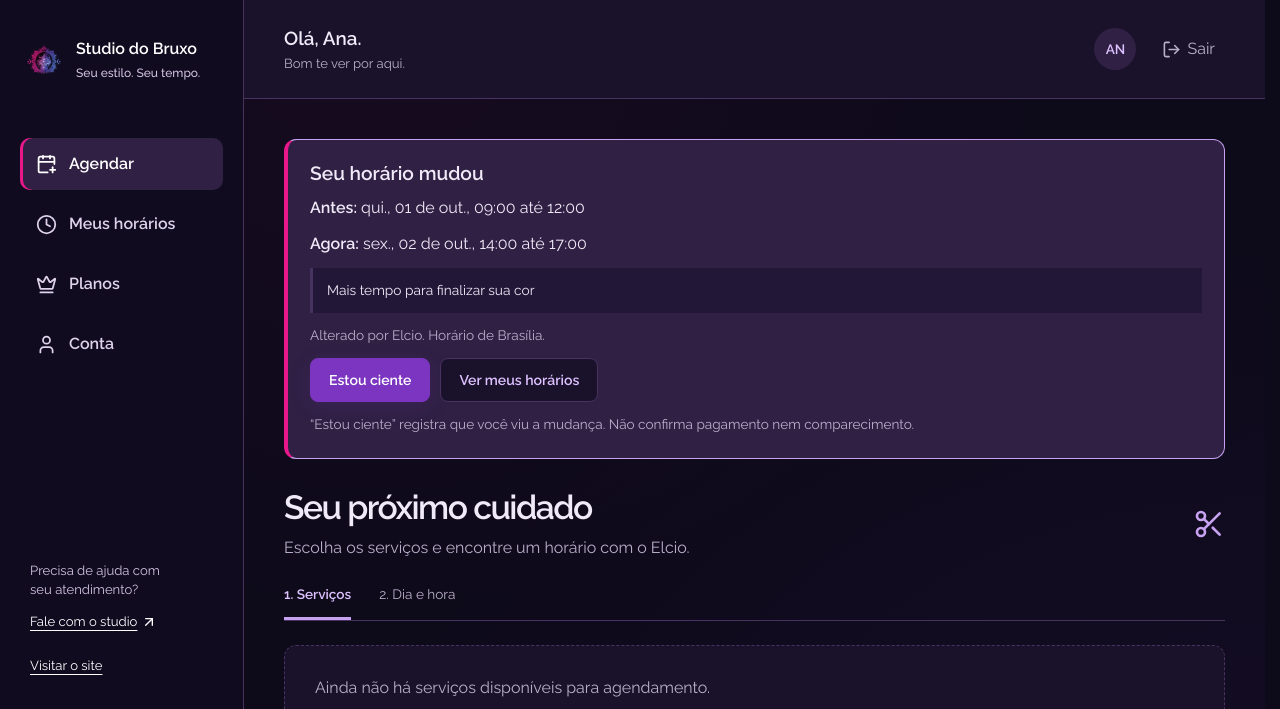
Test: client sees old and new times with reason then explicitly acknowledges the persisted change
Expected: the text "Antes:" is shown, [310,198,357,217]
Expected: the text "Agora:" is shown, [310,234,359,253]
Click the button "Estou ciente" at {"x": 370, "y": 380}, box [310,358,430,402]
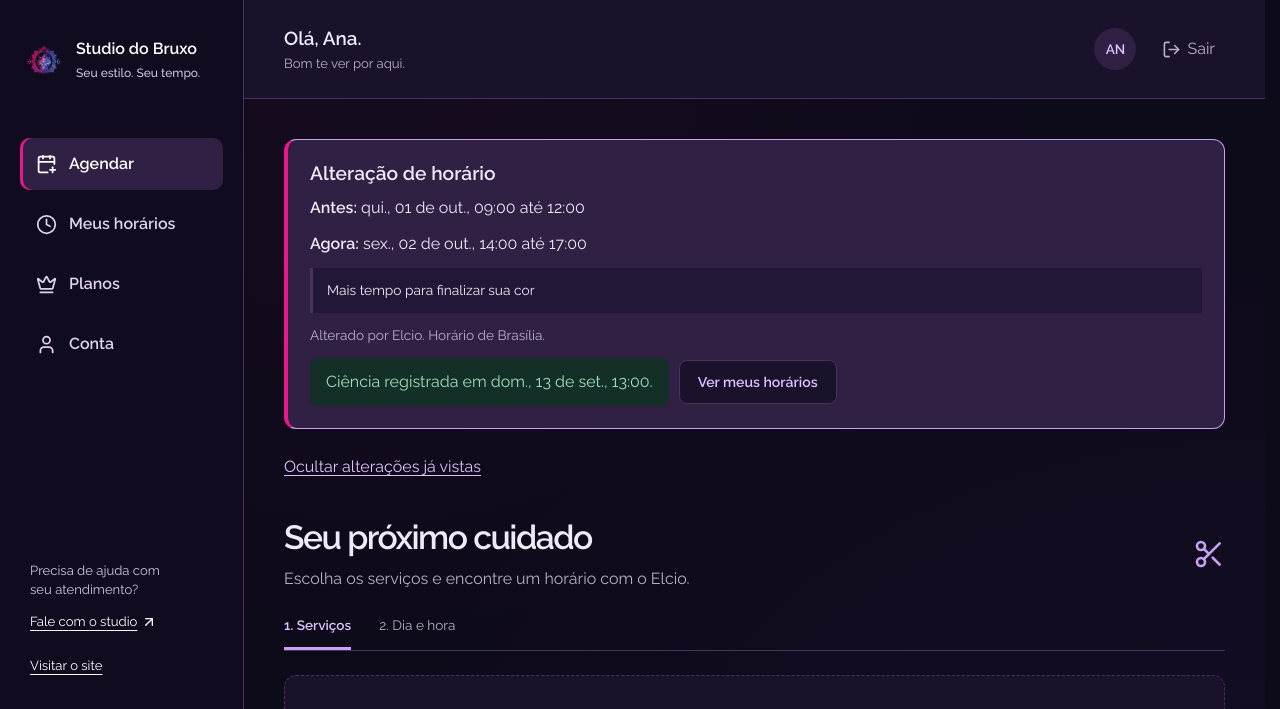
Expected: the text "Ciência registrada em dom., 13 de set., 13:00." is shown, [310,358,669,406]
